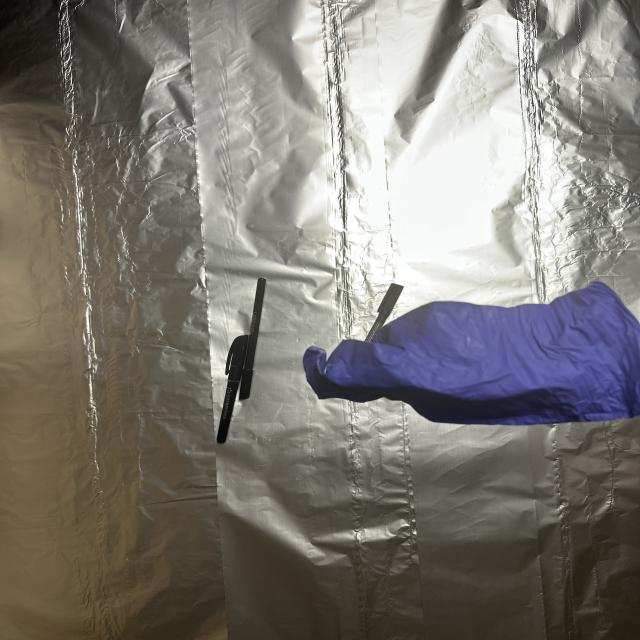glove_not_fitted: (294, 273, 637, 433)
